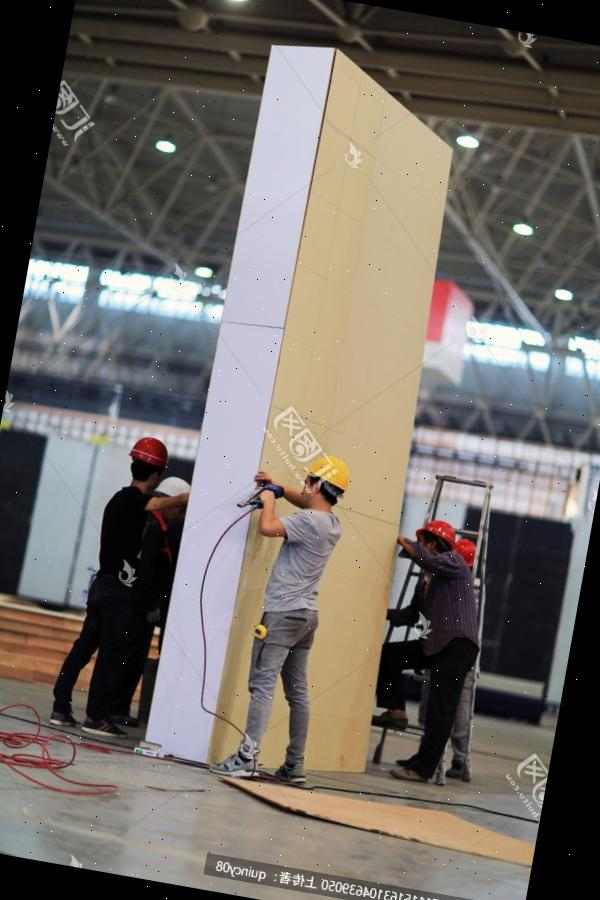helmet: (301, 448, 354, 494), (124, 431, 172, 476), (414, 513, 460, 551), (151, 472, 194, 509), (456, 536, 478, 562)
no_wear: (263, 508, 340, 635), (418, 556, 488, 660), (92, 486, 157, 582)
